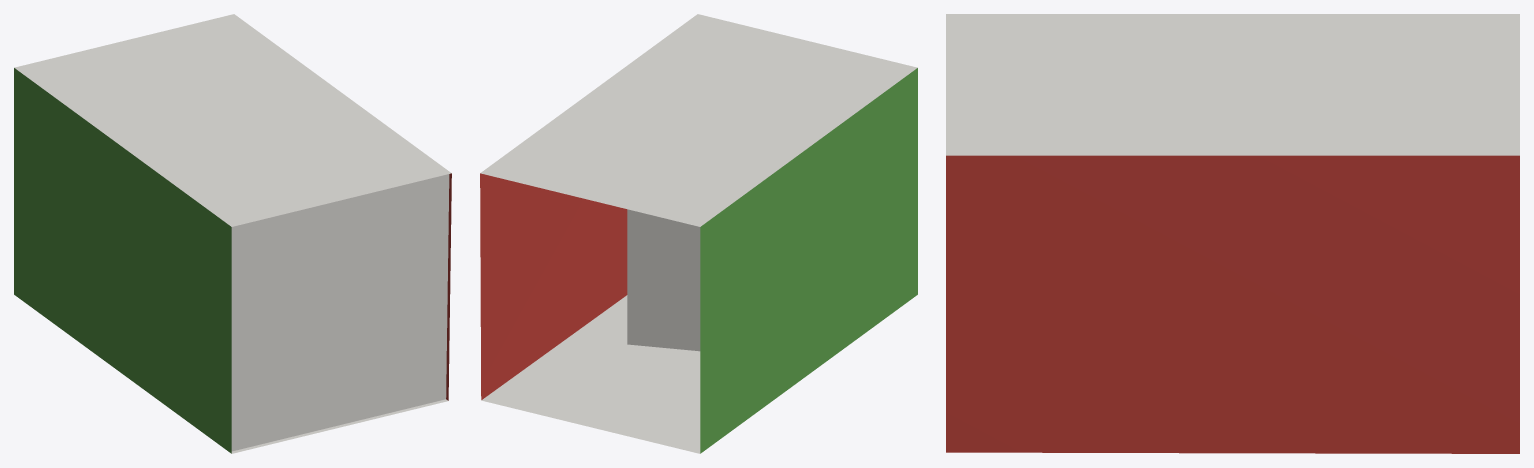
Rendered from cornell_box.glb.
3 renders of one model, left to right at view 1: azimuth 30°, elevation 25°; view 2: azimuth 150°, elevation 25°; view 3: azimuth 270°, elevation 25°, orthographic. The views are drawn at different scales.
Visible parts, largest first — view 1: Object_7, Object_2, Object_3, Object_5, Object_4; view 2: Object_7, Object_3, Object_5, Object_4, Object_9; view 3: Object_5, Object_3.
Part boxes in pixels (box(x1,y1,x2,y2)): Object_7: box(14, 68, 231, 453); Object_2: box(231, 174, 449, 451); Object_3: box(14, 14, 451, 226); Object_5: box(446, 173, 451, 400); Object_4: box(231, 399, 447, 453); Object_7: box(700, 68, 917, 453); Object_3: box(480, 14, 917, 226); Object_5: box(480, 173, 627, 399); Object_4: box(481, 295, 700, 453); Object_9: box(627, 209, 700, 351); Object_5: box(946, 155, 1519, 453); Object_3: box(946, 14, 1519, 155).
Size of the model in its own units: 1.35 by 1.33 by 2.31.
